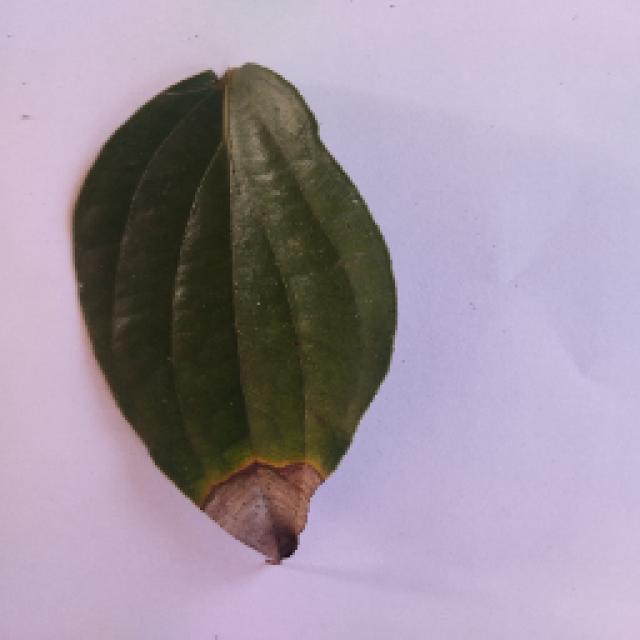footrot: (55, 73, 407, 565)
